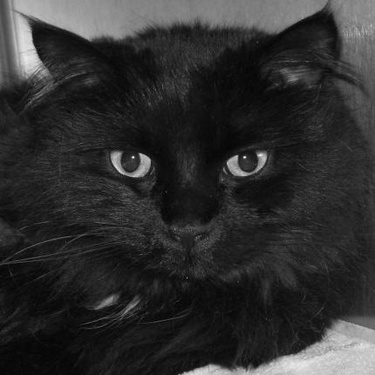cat: (1, 3, 371, 372)
